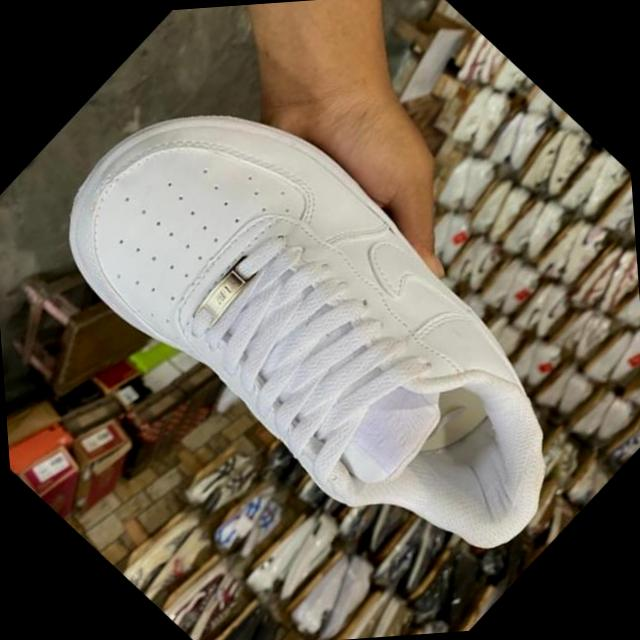nike_fake_airforce: (17, 11, 635, 640)
